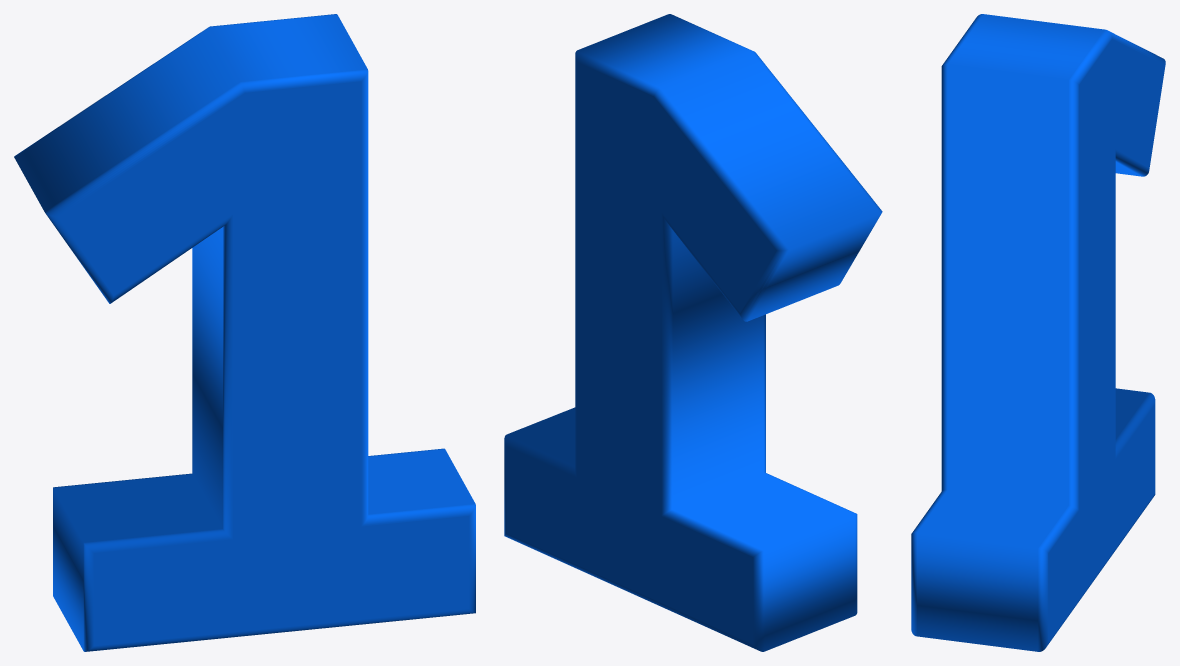
File: one.glb
3 renders of one model, left to right at view 1: azimuth 30°, elevation 25°; view 2: azimuth 150°, elevation 25°; view 3: azimuth 270°, elevation 25°, orthographic. The views are drawn at different scales.
Visible parts, largest first — view 1: 1 Origin.002; view 2: 1 Origin.002; view 3: 1 Origin.002.
Boxes of the visible parts, x1,y1,x2,y2 form: 1 Origin.002: [14, 14, 475, 651]; 1 Origin.002: [504, 14, 882, 651]; 1 Origin.002: [911, 14, 1165, 651].
Bounding box in the file's own units: 10.45 × 13.79 × 6.02.
